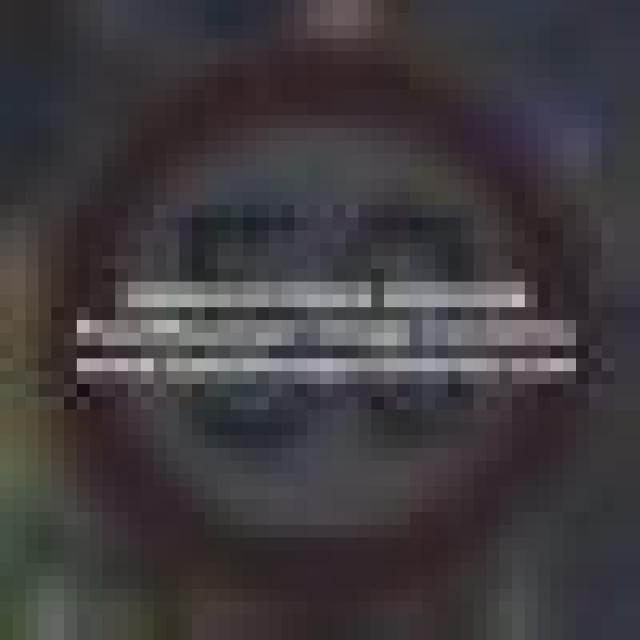speed_limit_30: (38, 51, 576, 576)
